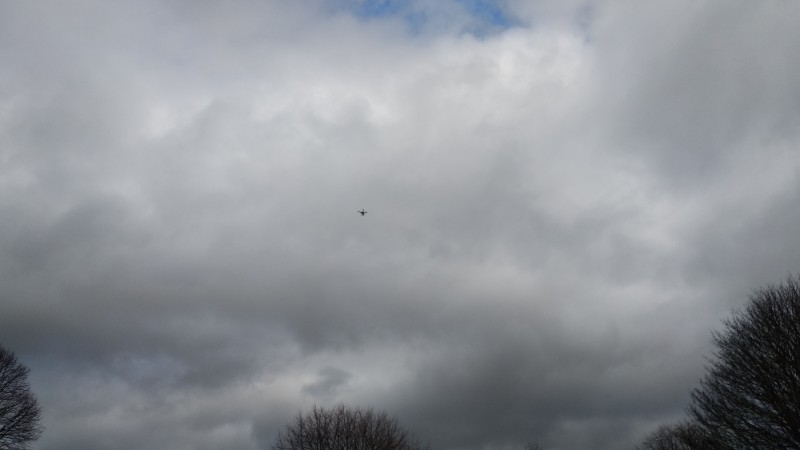drone: (358, 208, 368, 218)
